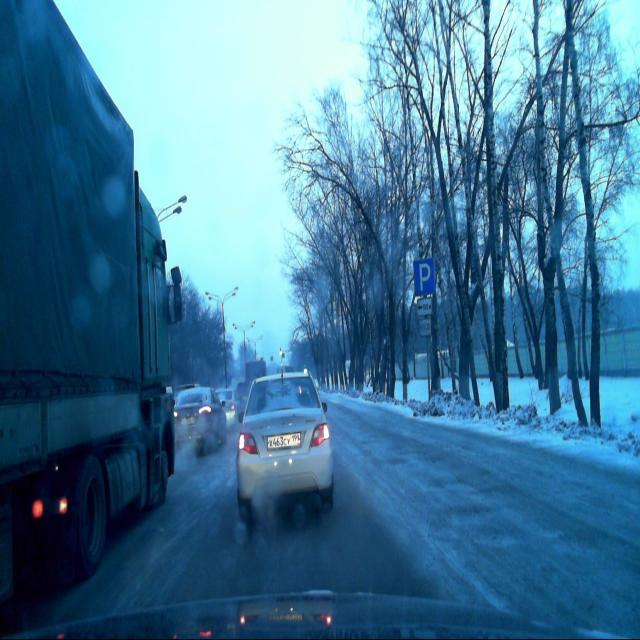road sign: (414, 256, 436, 295), (416, 299, 432, 316)
